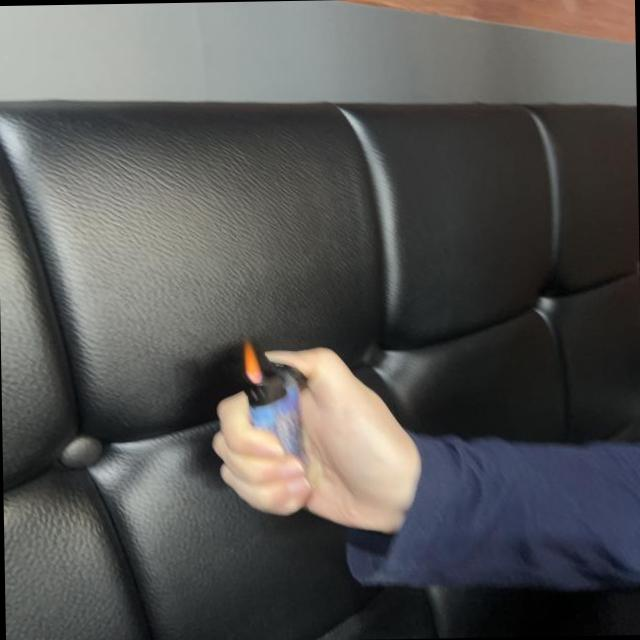Fire: (242, 341, 263, 384)
